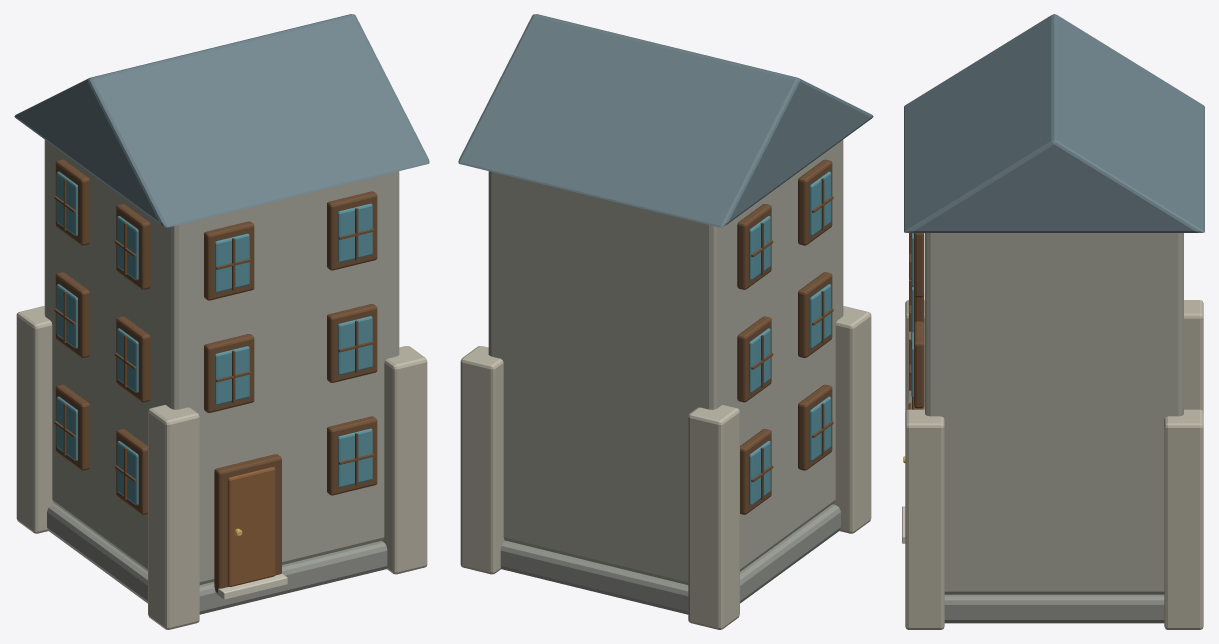
Rendered from temperate-tower-0.glb.
The picture shows the model from 3 angles, left to right: view 1: azimuth 30°, elevation 25°; view 2: azimuth 150°, elevation 25°; view 3: azimuth 270°, elevation 25°; orthographic projection.
Parts seen in each view (by area): view 1: Fieldstone, Blue slate, Warm civic stone, Dark beams, Blue glass, Foundation stone, Door oak, Cut limestone; view 2: Fieldstone, Blue slate, Warm civic stone, Dark beams, Foundation stone, Blue glass; view 3: Fieldstone, Blue slate, Warm civic stone, Foundation stone, Dark beams, Blue glass.
Boxes of the visible parts, left/top/right/bottom form: Fieldstone: left=44, top=140, right=399, bottom=584; Blue slate: left=14, top=14, right=429, bottom=227; Warm civic stone: left=16, top=306, right=427, bottom=629; Dark beams: left=54, top=159, right=377, bottom=592; Blue glass: left=56, top=171, right=372, bottom=505; Foundation stone: left=47, top=504, right=387, bottom=614; Door oak: left=227, top=467, right=275, bottom=586; Cut limestone: left=213, top=573, right=287, bottom=599; Fieldstone: left=488, top=140, right=843, bottom=584; Blue slate: left=458, top=14, right=873, bottom=227; Warm civic stone: left=460, top=306, right=871, bottom=629; Dark beams: left=737, top=159, right=833, bottom=514; Foundation stone: left=500, top=504, right=840, bottom=614; Blue glass: left=749, top=171, right=831, bottom=505; Fieldstone: left=925, top=233, right=1183, bottom=594; Blue slate: left=904, top=14, right=1204, bottom=232; Warm civic stone: left=905, top=300, right=1203, bottom=629; Foundation stone: left=944, top=594, right=1164, bottom=623; Dark beams: left=909, top=233, right=924, bottom=409; Blue glass: left=911, top=233, right=913, bottom=397.
Size of the model in its own units: 2.94 by 5.23 by 2.92.
